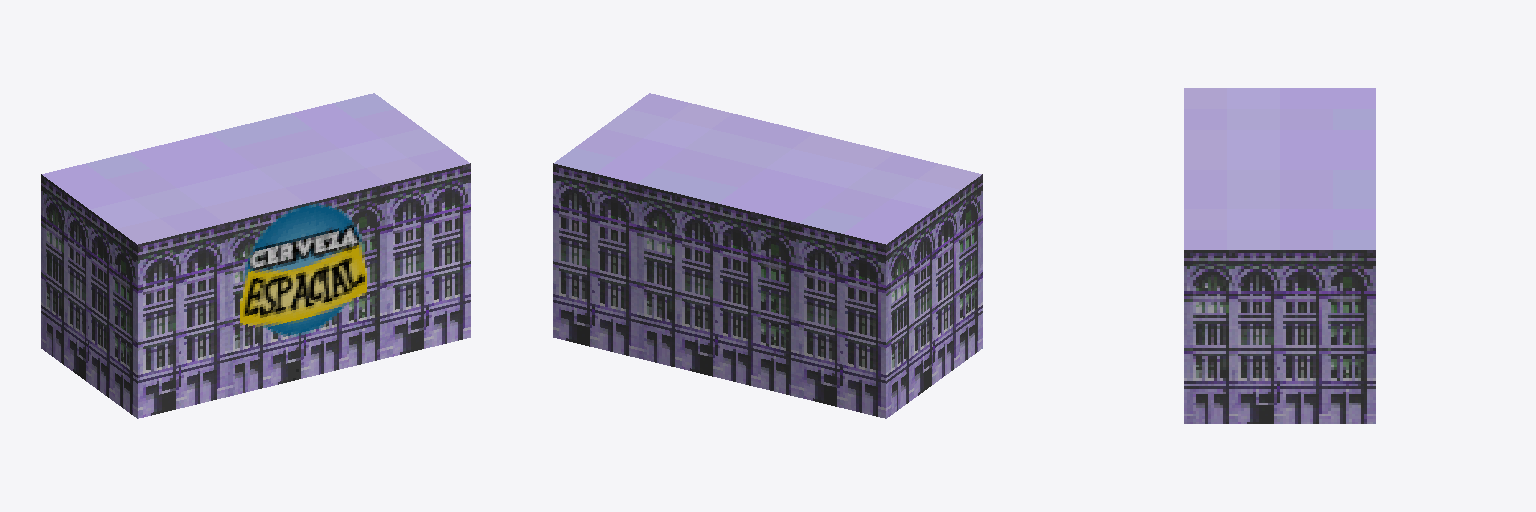
3 renders of one model, left to right at view 1: azimuth 30°, elevation 25°; view 2: azimuth 150°, elevation 25°; view 3: azimuth 270°, elevation 25°, orthographic.
Visible parts, largest first — view 1: Cube; view 2: Cube; view 3: Cube.
Part boxes in pixels (x1,y1,x2,y2): Cube: (41,93,470,418); Cube: (553,93,982,418); Cube: (1184,88,1375,423).
Size of the model in its own units: 4 by 2 by 2.
2 materials, 2 textured.